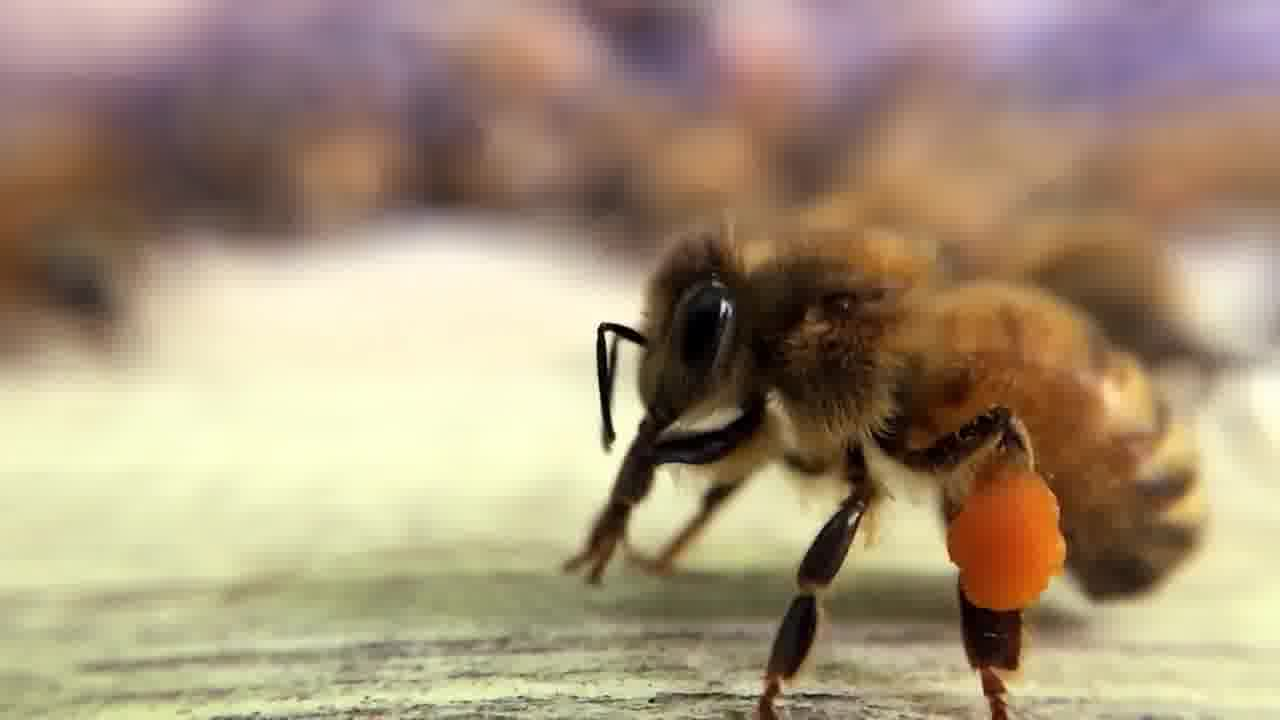pollen: (568, 202, 1224, 709)
